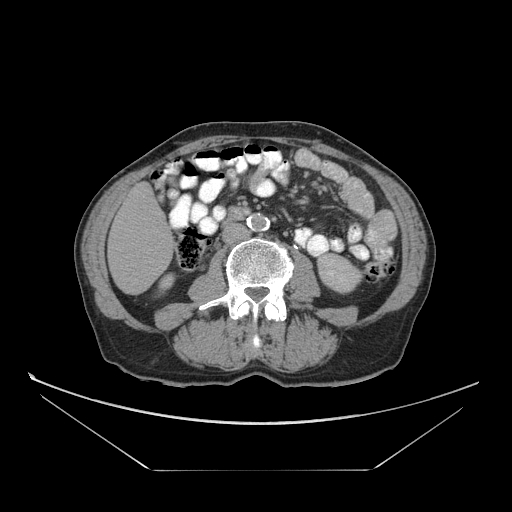left_kidney: (147, 267, 180, 299)
right_kidney: (312, 249, 368, 297)
